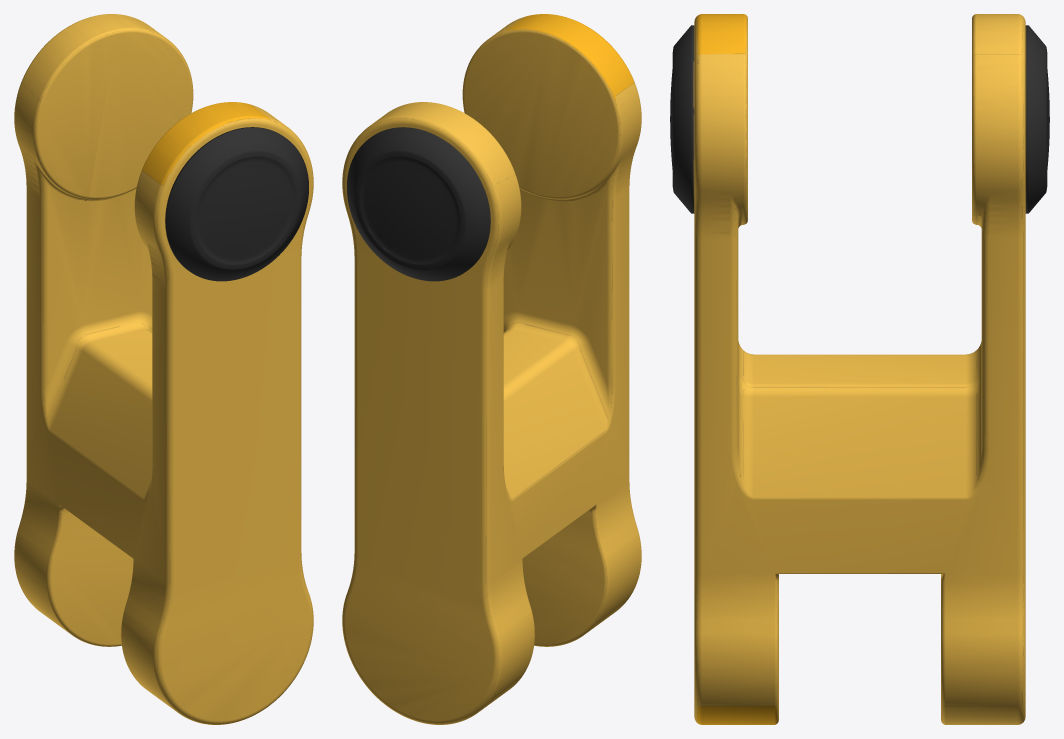
Rendered from torso1.obj.
3 views of the same model, side by side, from view 1: azimuth 30°, elevation 25°; view 2: azimuth 150°, elevation 25°; view 3: azimuth 270°, elevation 25° (orthographic). The views are drawn at different scales.
Visible parts, largest first — view 1: body1_002-mesh; view 2: body1_002-mesh; view 3: body1_002-mesh.
Boxes of the visible parts, left/top/right/bottom form: body1_002-mesh: left=14, top=14, right=313, bottom=724; body1_002-mesh: left=342, top=14, right=641, bottom=724; body1_002-mesh: left=670, top=14, right=1049, bottom=724.
Size of the model in its own units: 0.13 by 0.47 by 0.234.
Materials: 1 (1 with a texture image).
